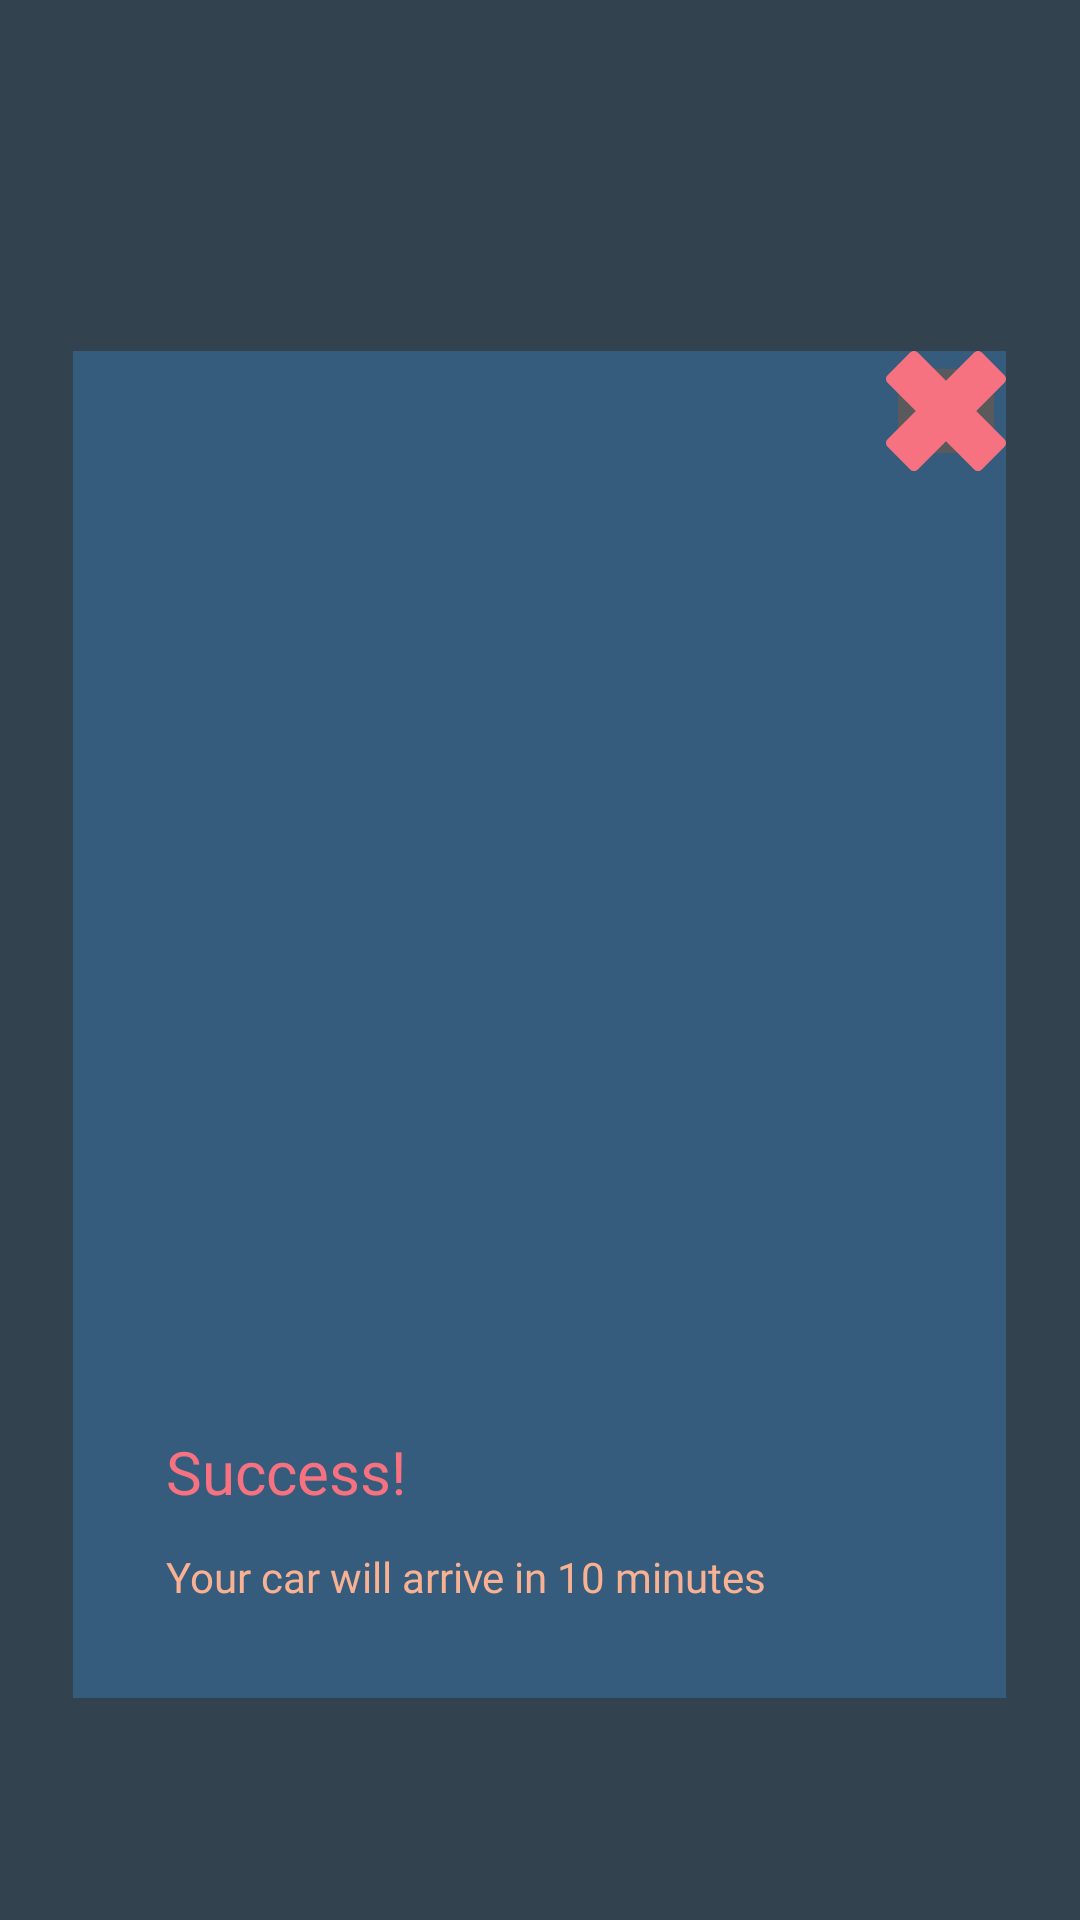

Icons on this 1080px×1920px Android screen, each with the point to tap as [x,y]:
close: [946,411]
